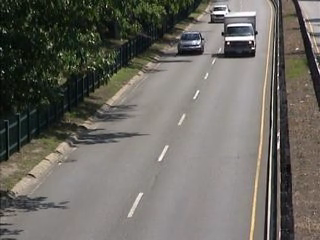car: (175, 29, 206, 57), (209, 3, 232, 25)
truck: (221, 11, 262, 57)
